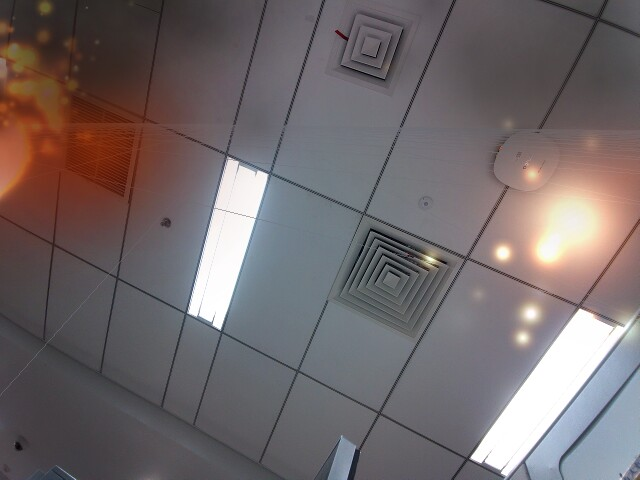fire: (0, 106, 43, 208)
